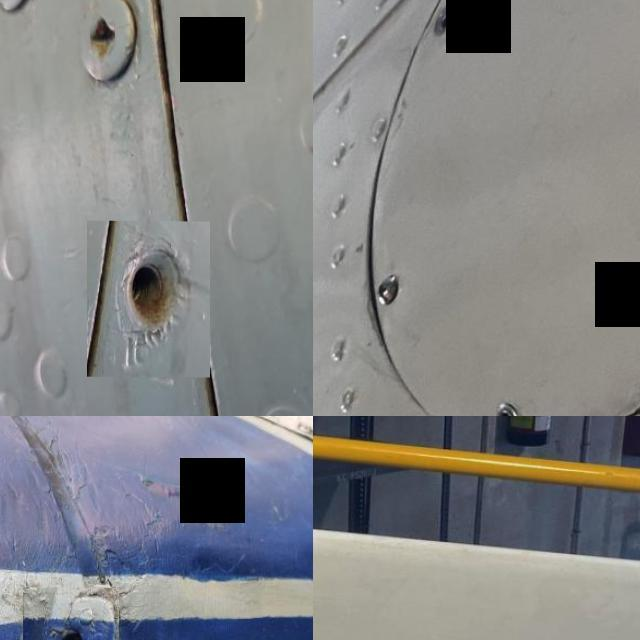Missing_Fastener: (87, 220, 210, 378), (23, 586, 119, 640), (424, 3, 462, 41), (496, 396, 534, 416)
